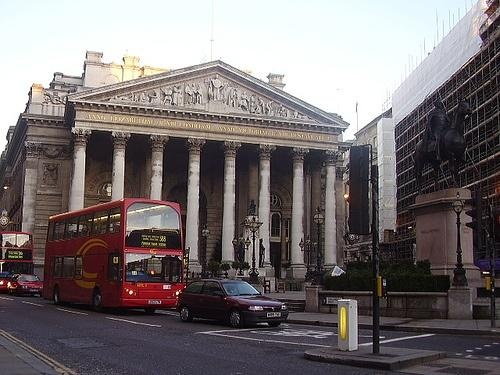bus: (43, 197, 185, 313), (1, 231, 34, 291)
car: (176, 278, 289, 332), (7, 276, 45, 300)
